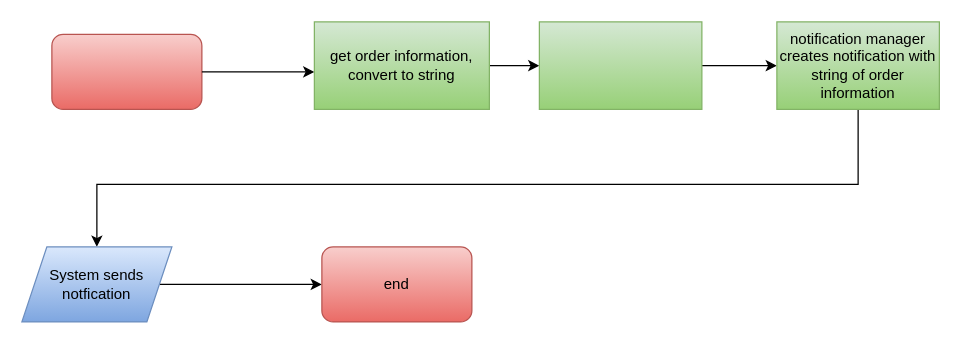
The diagram is 961 pixels wide and 344 high, and some of its shapes have lost their labels. Each missing label, with the centre of its shape:
"send data to notification manager" goes at pixel 620 65.
"User pressed place order button" goes at pixel 126 71.
